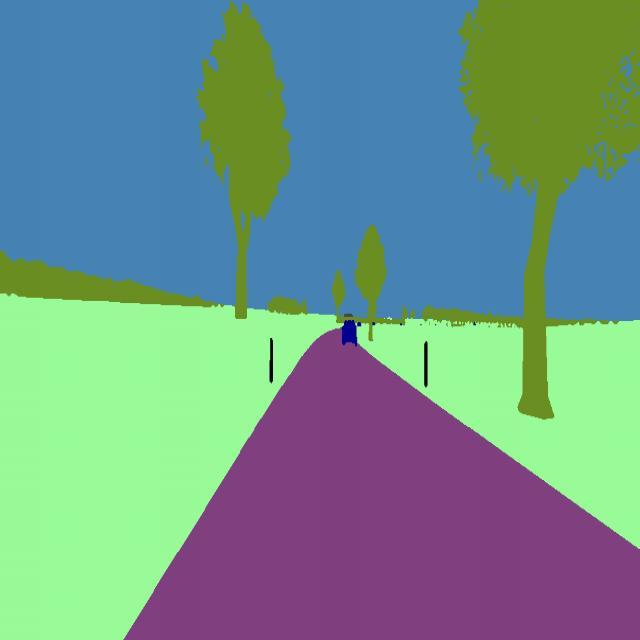safe: (341, 312, 358, 356)
